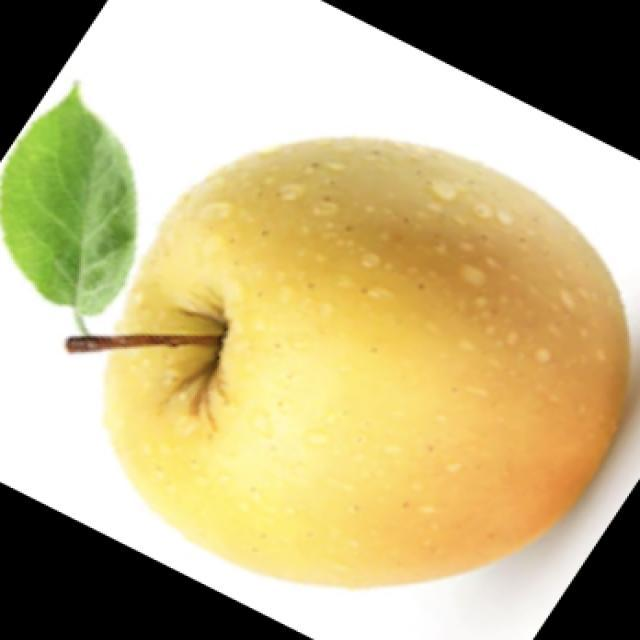Fresh Apple: (117, 132, 618, 590)
